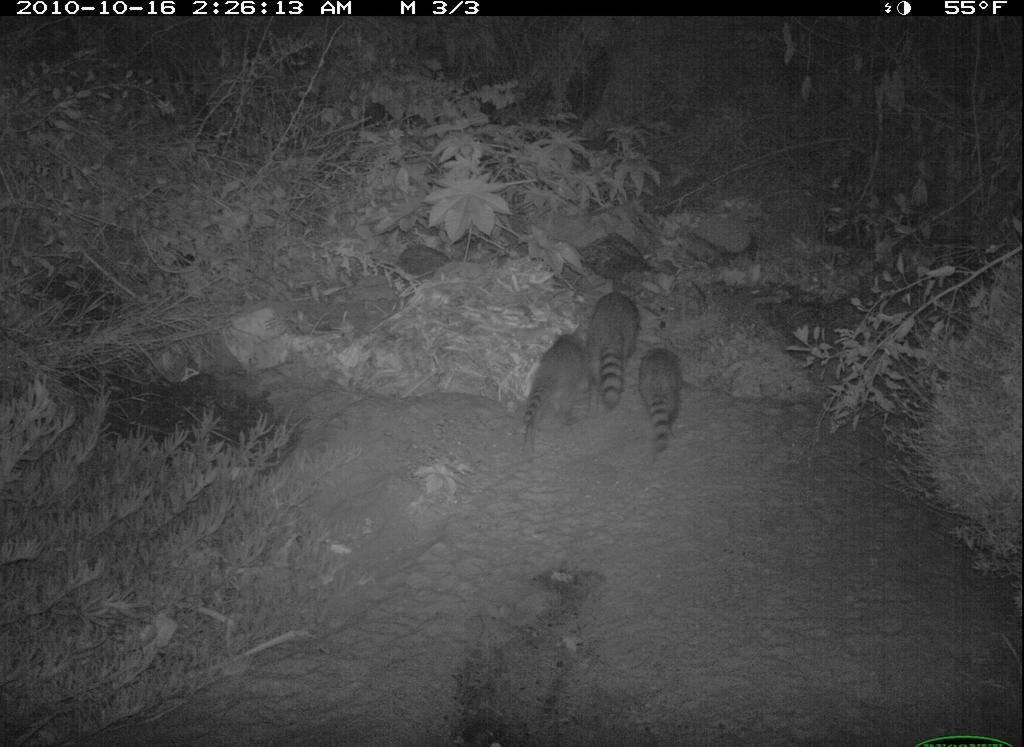raccoon: (517, 326, 587, 459), (587, 285, 642, 409), (641, 341, 684, 461)
